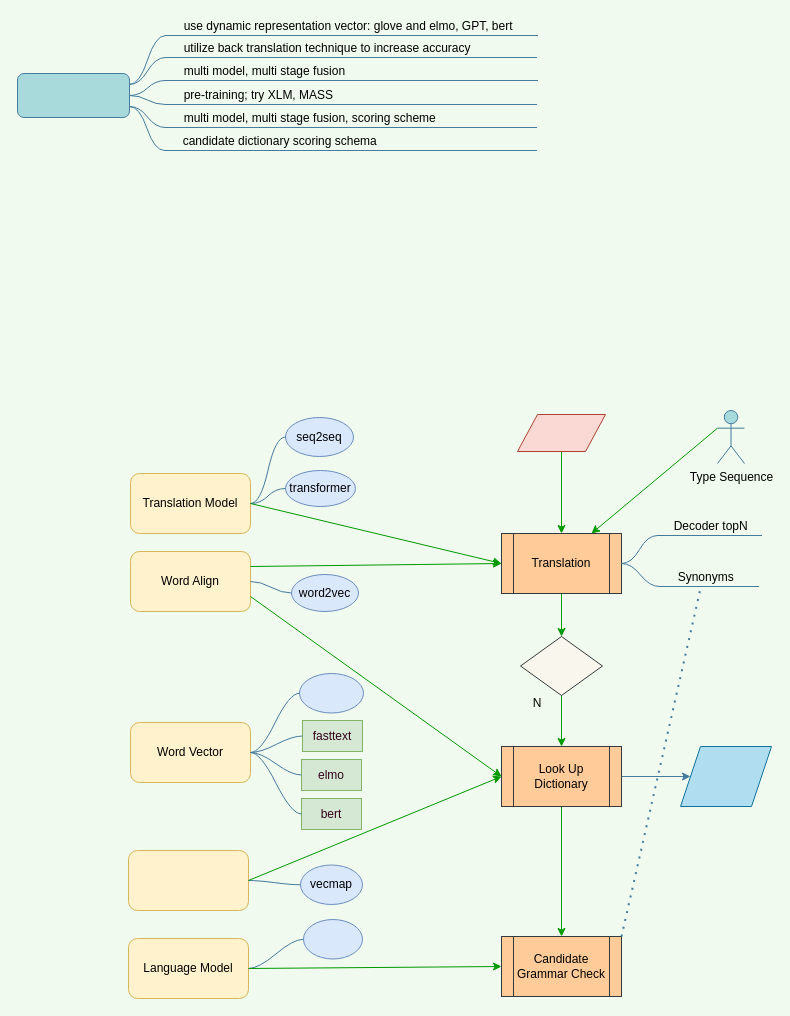
Image size: 790x1016. Some labels were removed from this diagram. The shapes that lost their labels are listed below. From the top down, each one's centre as x and y in pixels, then its label:
point (73, 95): Improvement Strategy
point (561, 433): Source Sentence
point (561, 666): Prefix Hit
point (331, 692): fast_align
point (726, 776): Target Sequence
point (188, 880): Vector Map
point (332, 938): klem
